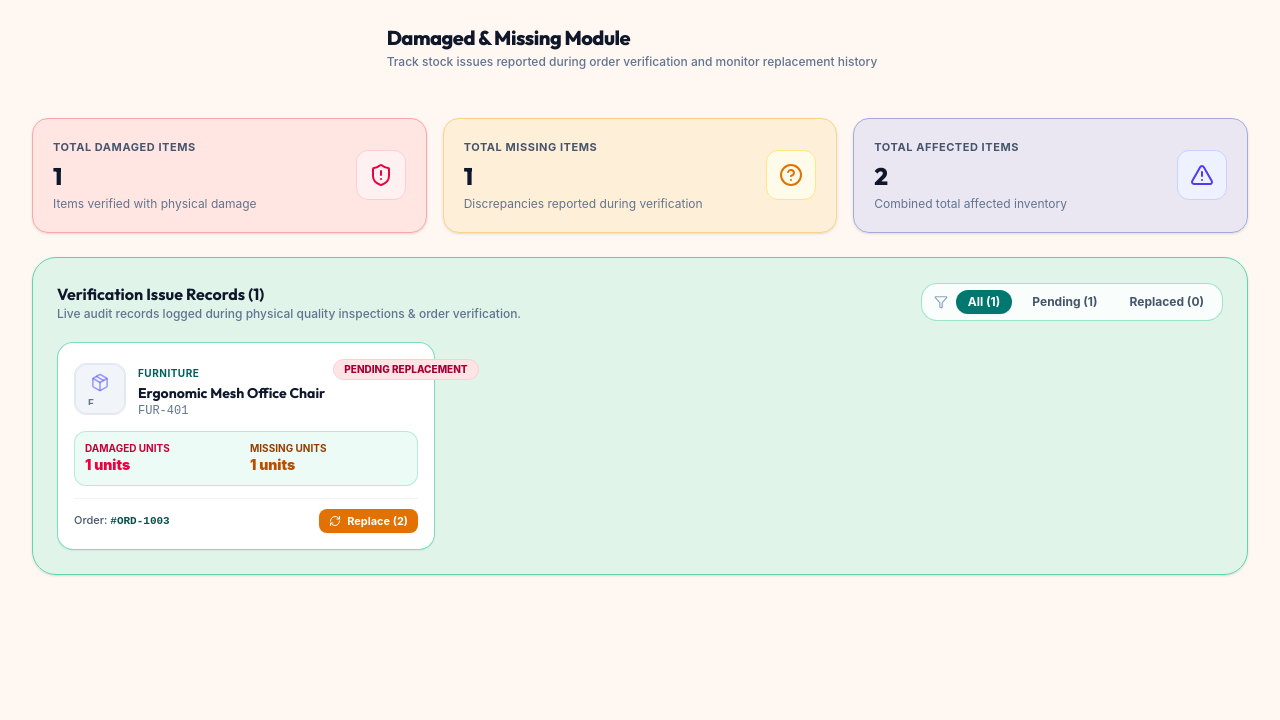
Test case: DamagedMissing Page Integration Tests › allows clicking quick replace button on pending issue cards
Click the button "Replace (2)".
click(369, 521)  # box [319, 509, 418, 533]
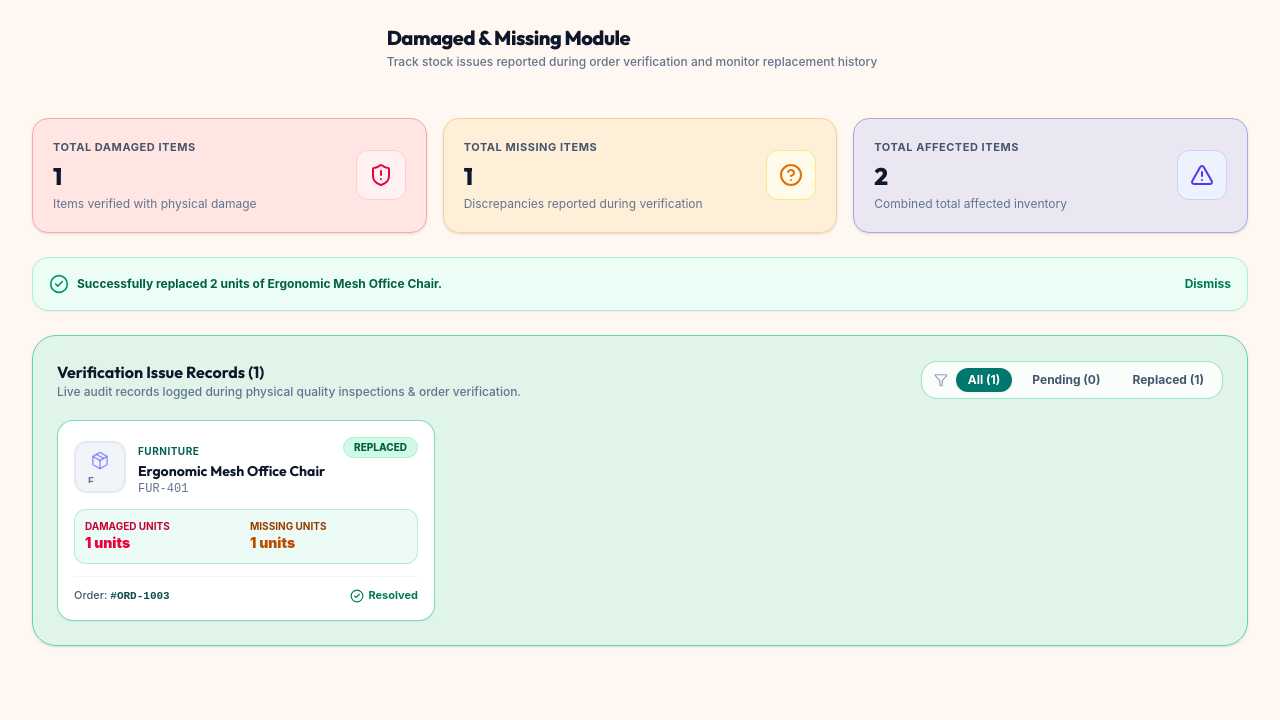
Now the text "Successfully replaced" is shown, box [77, 276, 442, 290]
